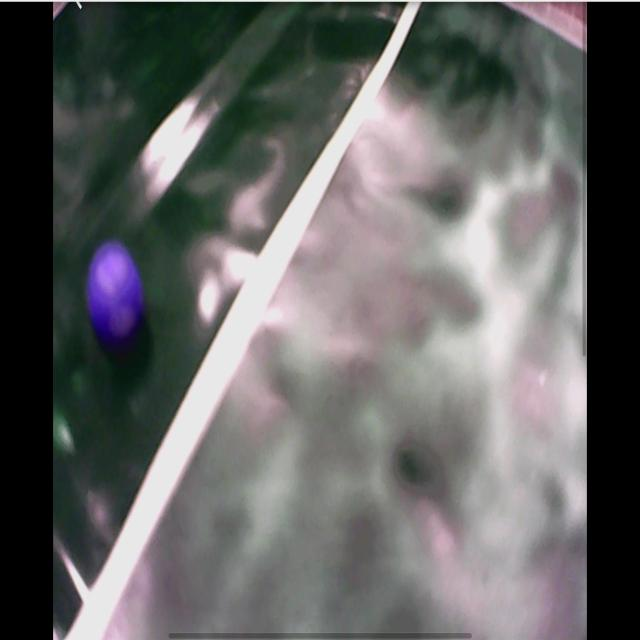ball: (84, 245, 143, 341)
